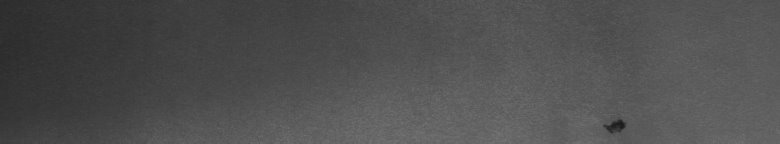fi: (603, 113, 628, 136)
